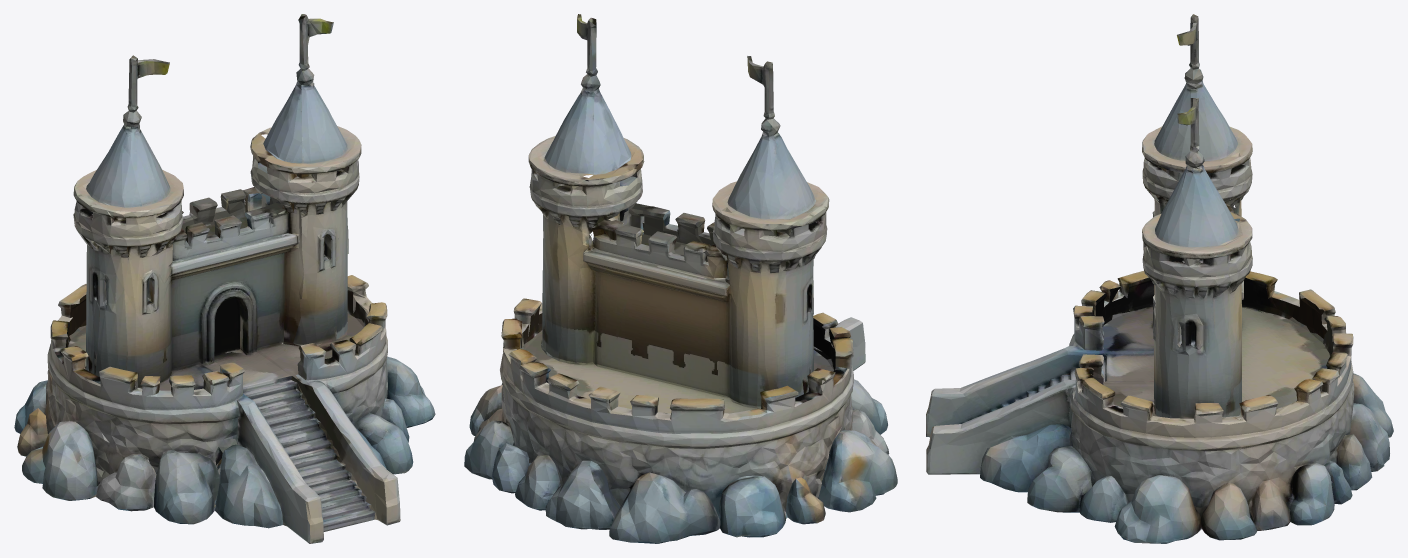
File: castle.glb
3 views of the same model, side by side, from view 1: azimuth 30°, elevation 25°; view 2: azimuth 150°, elevation 25°; view 3: azimuth 270°, elevation 25° (orthographic). The views are drawn at different scales.
Size of the model in its own units: 1.82 by 1.85 by 1.97.
1 material, 1 textured.
